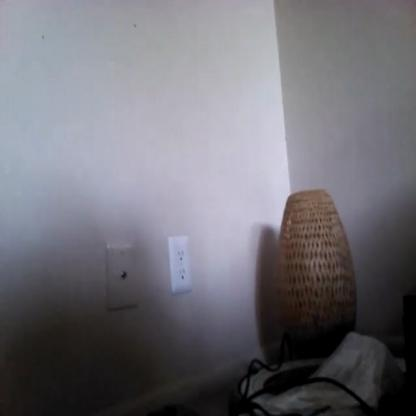OUTLET: (168, 235, 192, 292)
